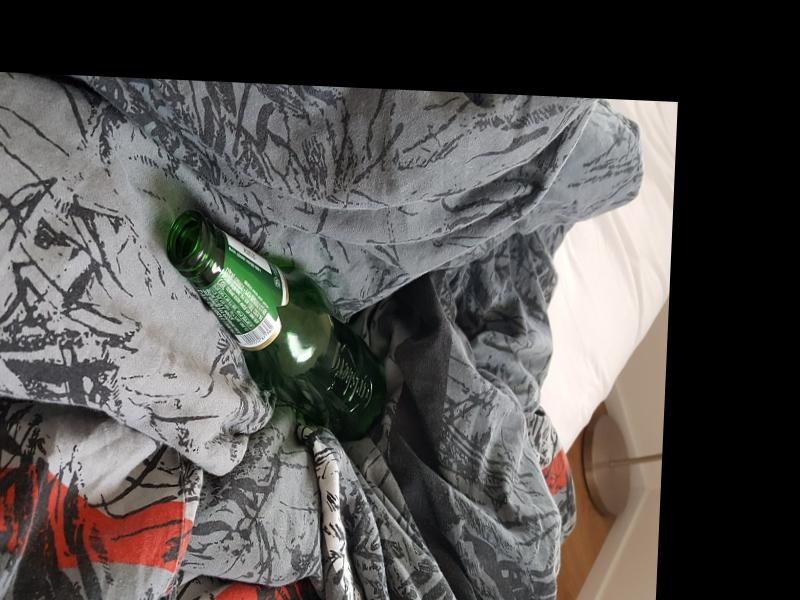Beer: (155, 213, 393, 441)
